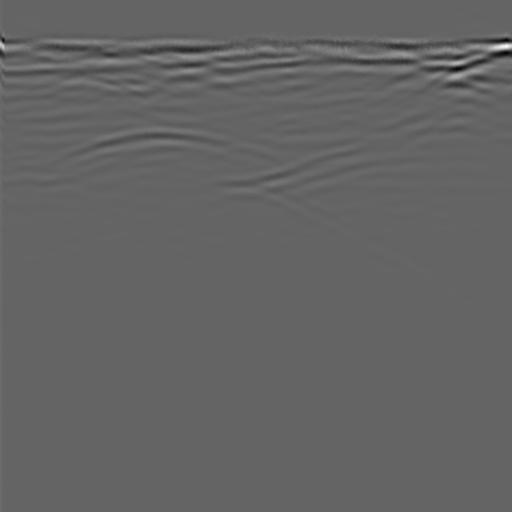hyperbola: (29, 119, 303, 209)
